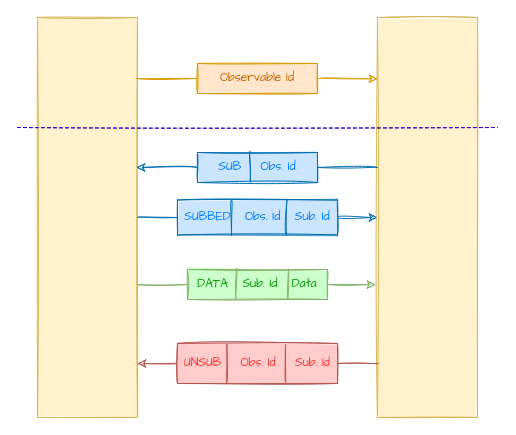
Some shapes in this 516 by 435 pixel diagram are drawn without their labels. The shapes that lost their labels are listed below. From the top down, each one's centre as x and y in pixels, then its label:
(87,217): Host
(427,217): Remote
